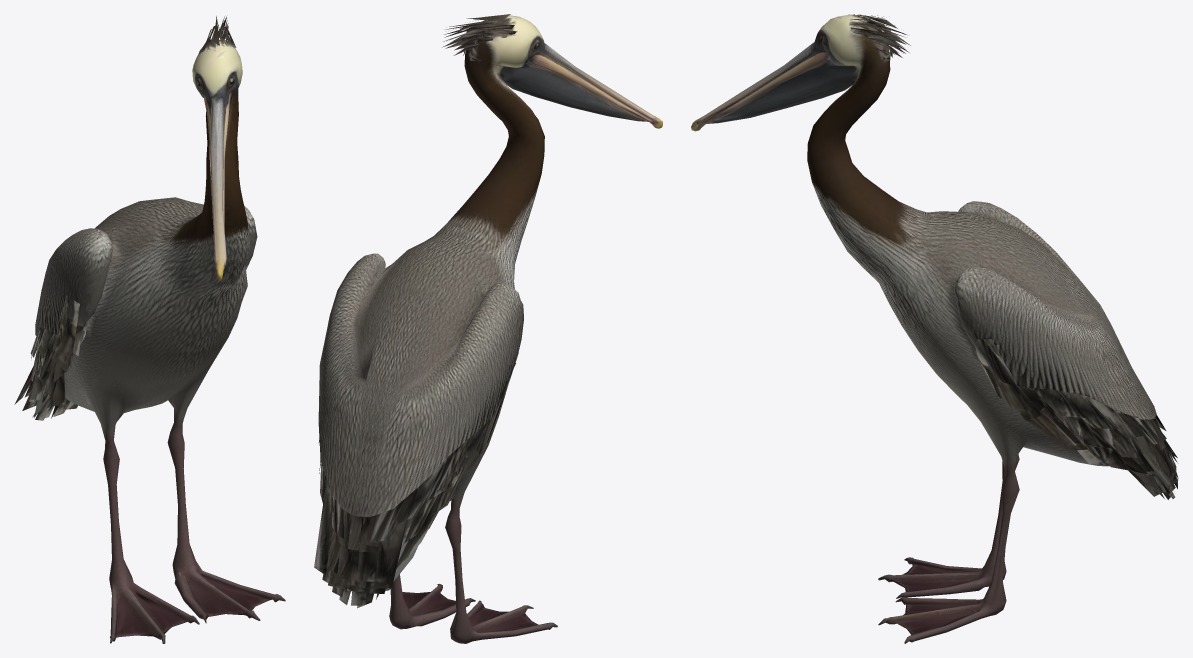
The model's file is pelican.glb.
The picture shows the model from 3 angles, left to right: view 1: azimuth 30°, elevation 25°; view 2: azimuth 150°, elevation 25°; view 3: azimuth 270°, elevation 25°; orthographic projection. The views are drawn at different scales.
Bounding box in the file's own units: 0.2819 × 0.9 × 0.6712.
Materials: 1 (1 with a texture image).
